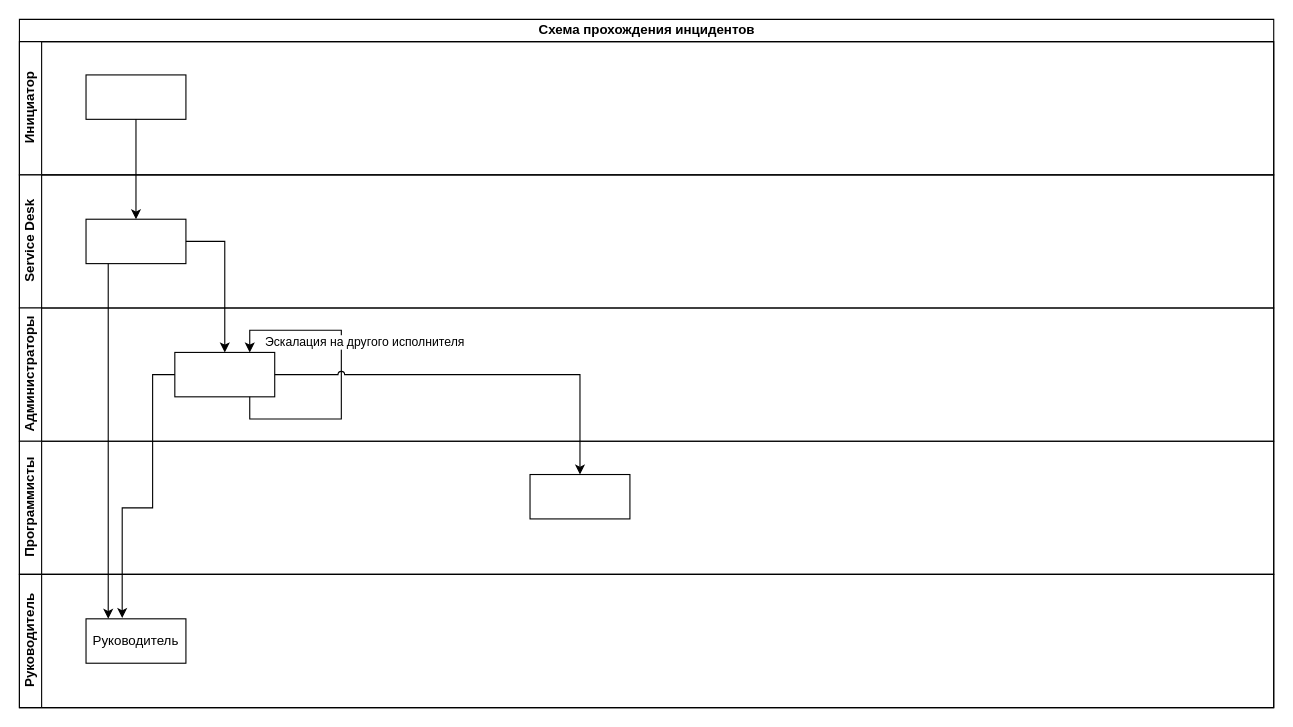
This 1293x727 diagram has some shape labels left out. The centre of each missing label's shape, as x and y in pixels:
1-линия: the point at 224,374
2-я линия: the point at 579,496
Инцидент: the point at 135,96
Регистрация: the point at 135,241
